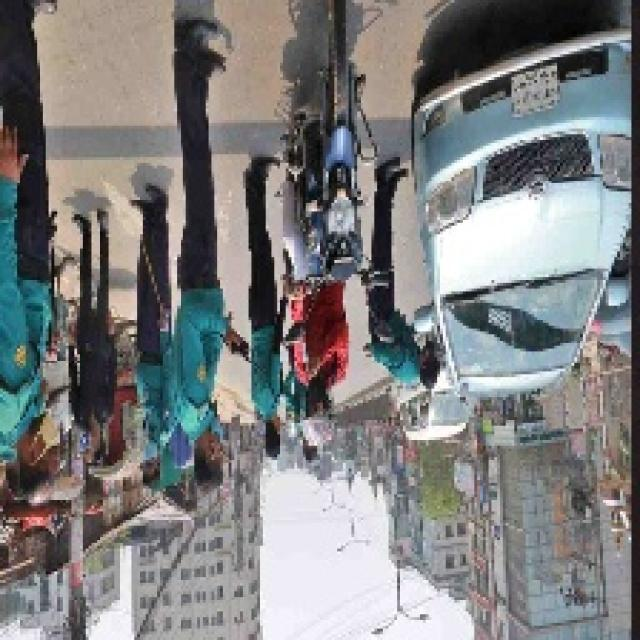bike: (295, 12, 391, 331)
car: (432, 21, 631, 401)
